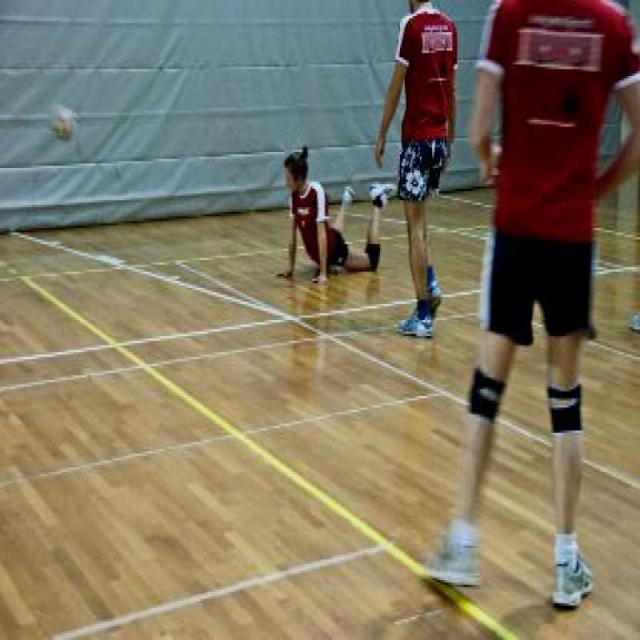volleyball: (52, 110, 78, 141)
